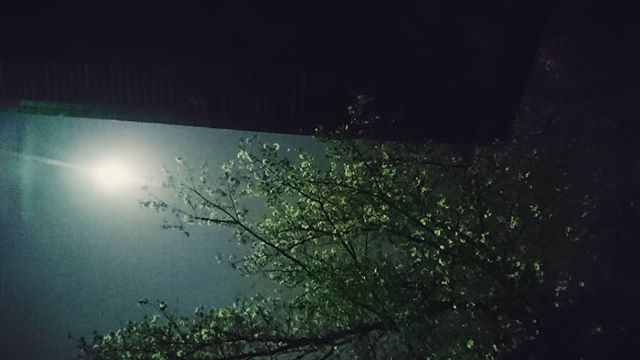tree: (215, 104, 640, 360)
